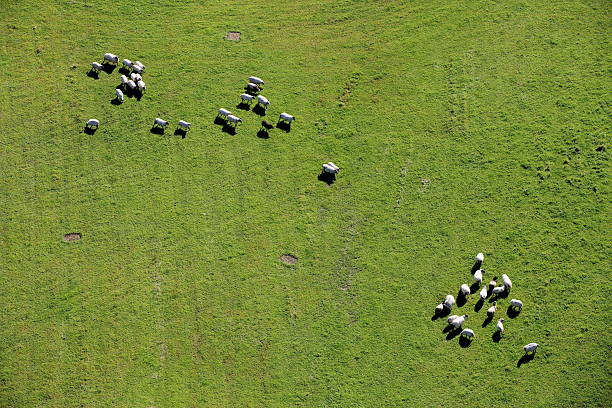sheep: (460, 326, 481, 346), (505, 297, 523, 317), (111, 87, 129, 107), (484, 300, 501, 319), (321, 162, 342, 177), (475, 251, 491, 270), (176, 118, 196, 133), (276, 112, 299, 125), (151, 115, 172, 129), (493, 284, 510, 301), (523, 341, 541, 357), (257, 119, 278, 132), (103, 51, 124, 64), (454, 282, 471, 297), (248, 74, 266, 87), (83, 117, 106, 127), (227, 112, 243, 126), (495, 317, 507, 335), (134, 77, 146, 95), (501, 274, 514, 290), (433, 303, 449, 316), (473, 269, 486, 284), (487, 275, 499, 291), (238, 93, 257, 103), (449, 312, 464, 324), (257, 95, 270, 108), (478, 286, 490, 300), (443, 294, 457, 306), (90, 58, 105, 69), (115, 74, 128, 86), (214, 106, 229, 116), (119, 57, 134, 67), (132, 59, 143, 70), (127, 80, 137, 91), (245, 81, 257, 90)
